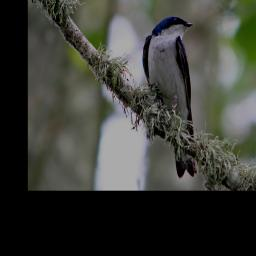Swallow: (141, 14, 200, 180)
